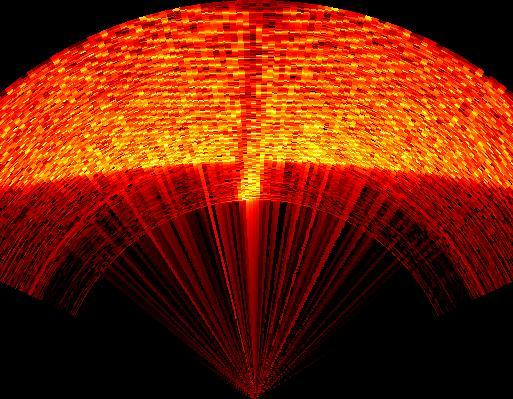pipe: (230, 2, 286, 206)
